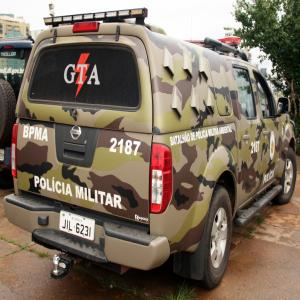Vehicle-registration-plate: (61, 211, 98, 243), (1, 149, 5, 161)
